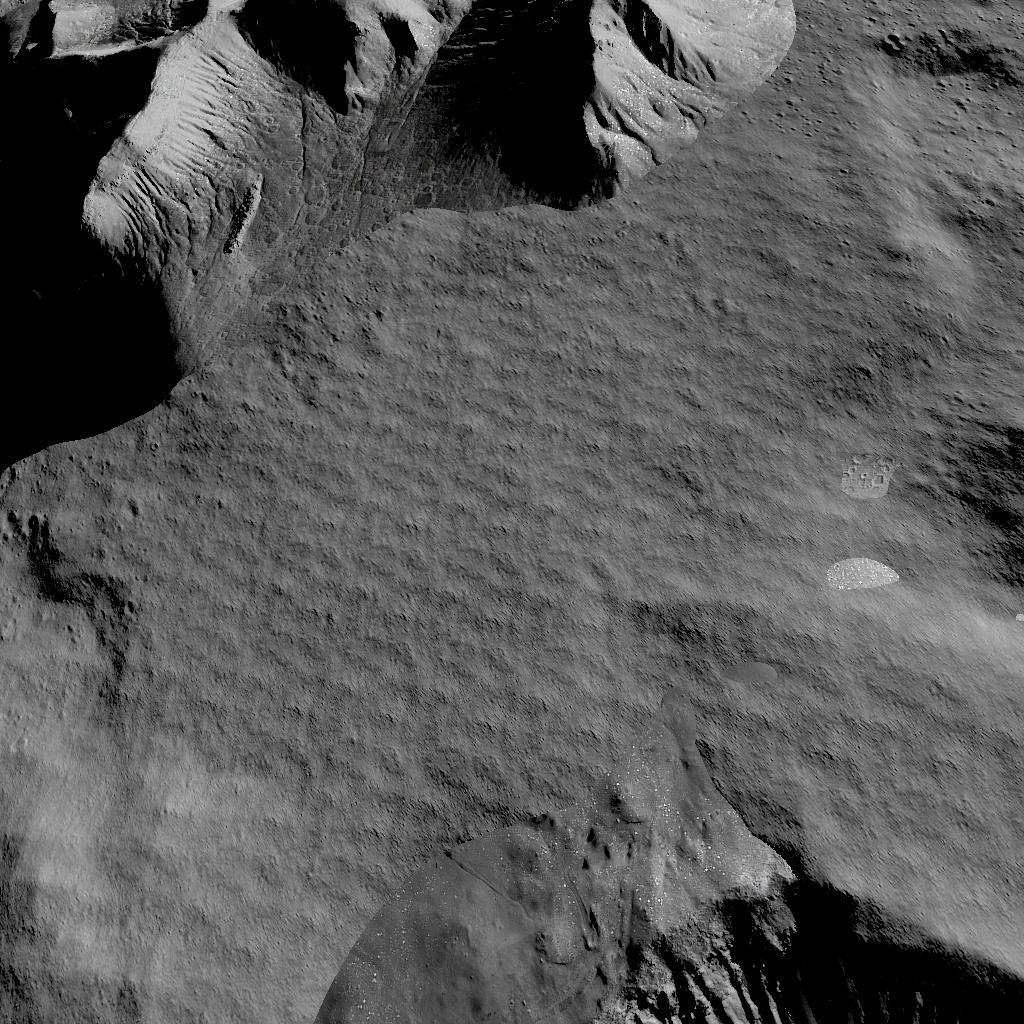Boulders: (0, 0, 795, 468)
Crater: (321, 810, 1024, 1024), (943, 418, 1024, 598), (868, 22, 1024, 96)
Plan surface: (324, 482, 932, 798), (0, 480, 308, 1024), (811, 108, 1024, 406)
